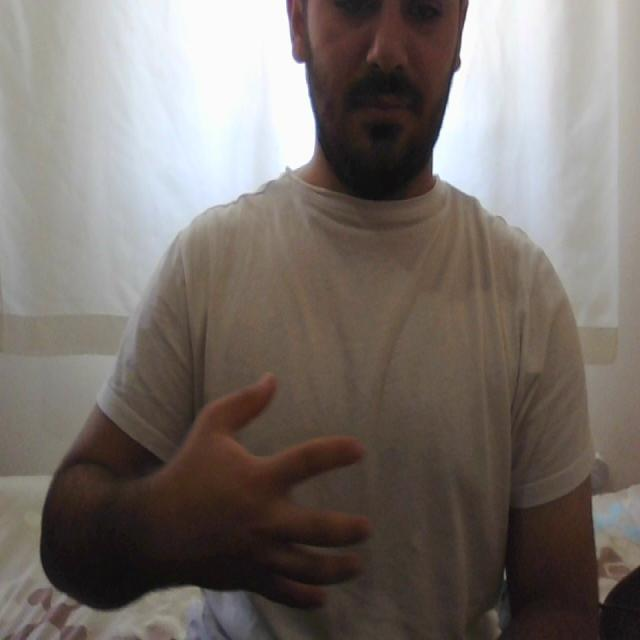Anne: (169, 366, 385, 619)
